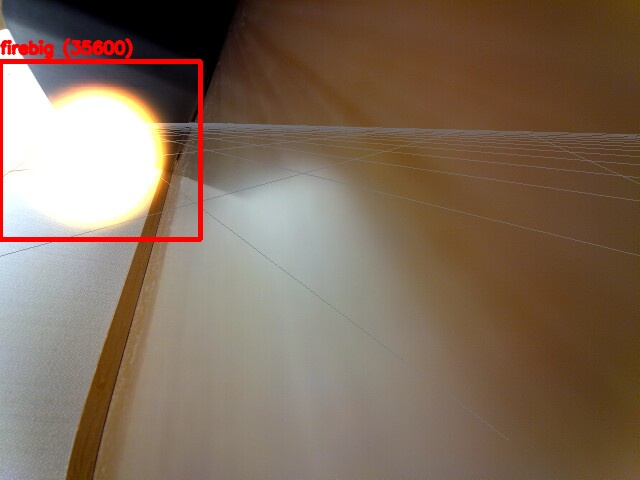firebig: (0, 61, 200, 239)
